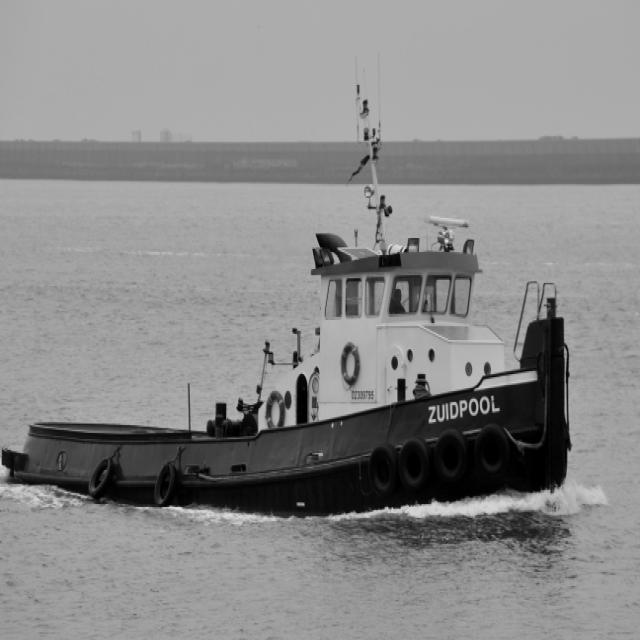tugboat: (1, 49, 579, 533)
